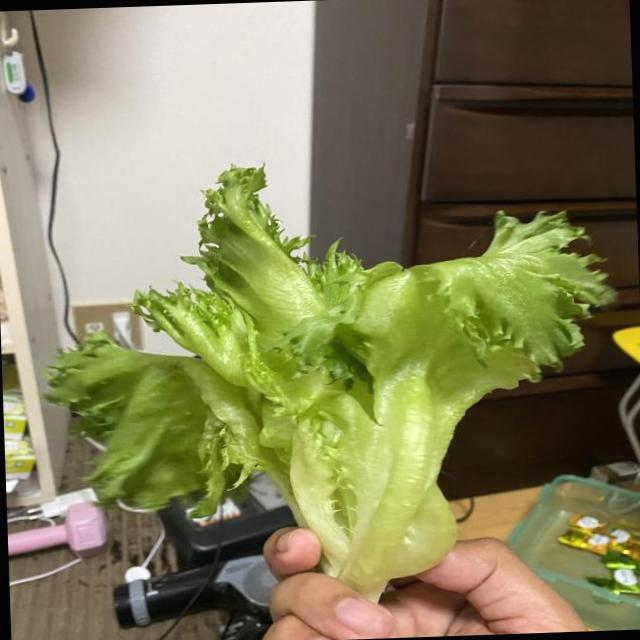Lettuce-Ready-to-Harvest: (49, 167, 613, 598)
